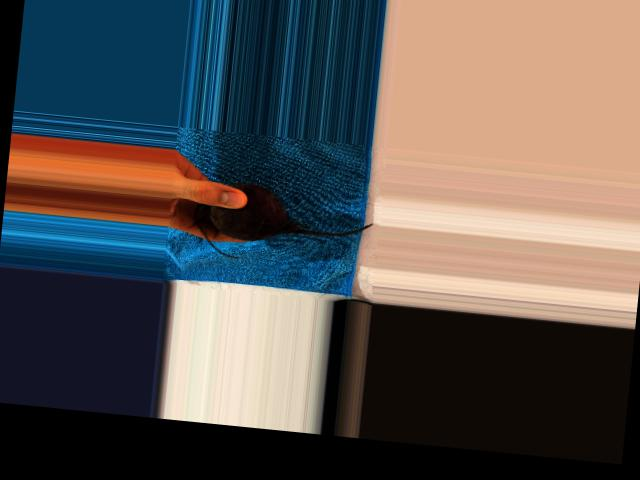beet: (191, 178, 376, 270)
